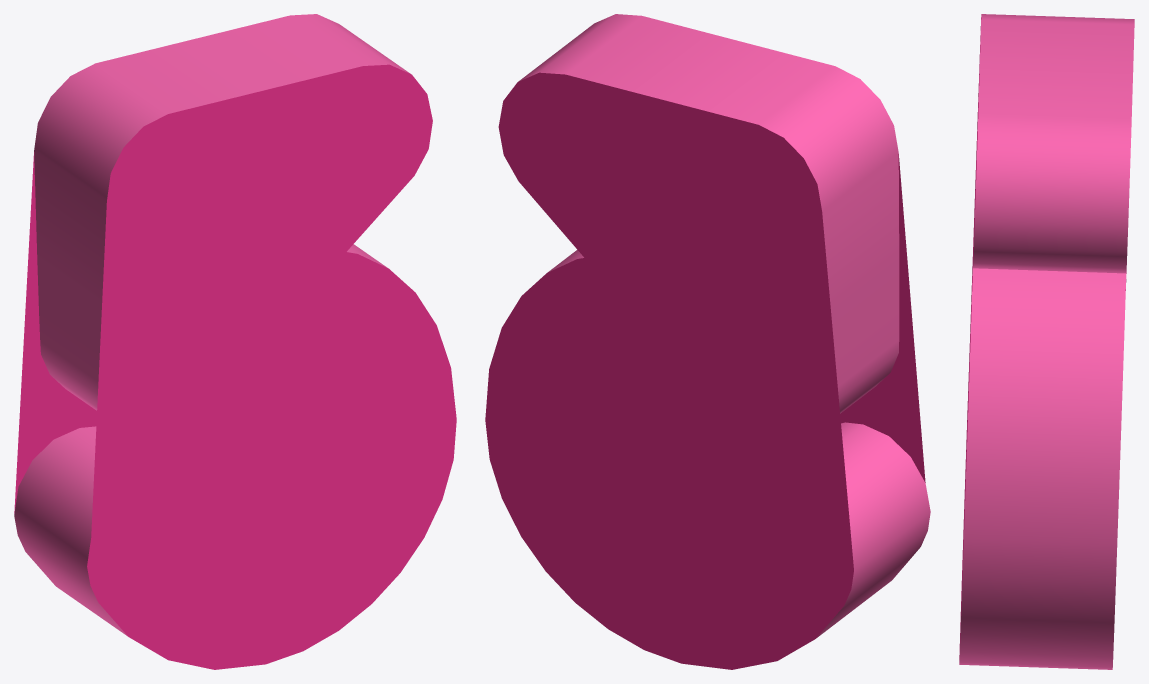
File: choice6.fbx
3 renders of one model, left to right at view 1: azimuth 30°, elevation 25°; view 2: azimuth 150°, elevation 25°; view 3: azimuth 270°, elevation 25°, orthographic. The views are drawn at different scales.
Visible parts, largest first — view 1: Model; view 2: Model; view 3: Model.
Boxes of the visible parts, bbox=[...] form: Model: bbox=[14, 14, 456, 669]; Model: bbox=[485, 14, 930, 669]; Model: bbox=[959, 14, 1134, 669].
Bounding box in the file's own units: 33.39 × 49.2 × 13.32.
